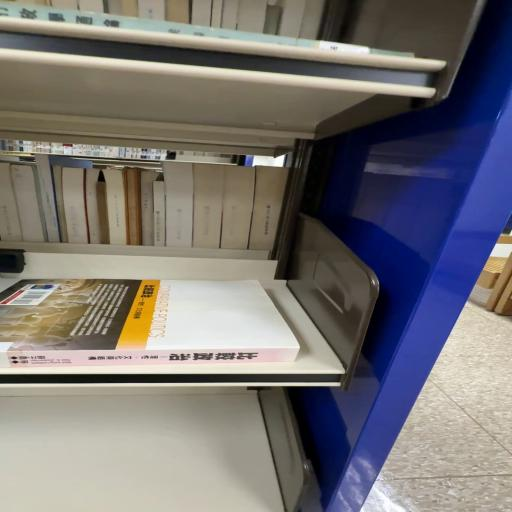flat: (1, 278, 300, 370)
